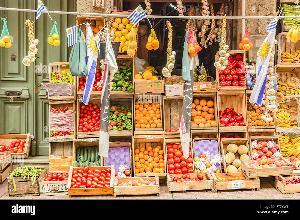apple: (253, 140, 287, 170)
apricot: (132, 138, 164, 174), (134, 96, 163, 131)
banana: (280, 25, 300, 64), (274, 68, 300, 96), (276, 130, 300, 160), (276, 97, 298, 129)
bell_pepper: (218, 52, 245, 90), (220, 93, 246, 127), (108, 96, 132, 132), (110, 59, 134, 93), (50, 64, 74, 96), (52, 104, 74, 138)
cucumber: (73, 144, 103, 168)
garlic: (261, 42, 279, 120)
melon: (223, 140, 253, 174)
orange: (108, 15, 140, 56), (190, 94, 218, 127), (247, 95, 273, 127)
peach: (115, 175, 157, 193)
tomato: (78, 96, 104, 138), (164, 139, 194, 173), (164, 98, 189, 136), (71, 168, 111, 190), (79, 64, 105, 92), (1, 136, 24, 158), (43, 176, 69, 185)
